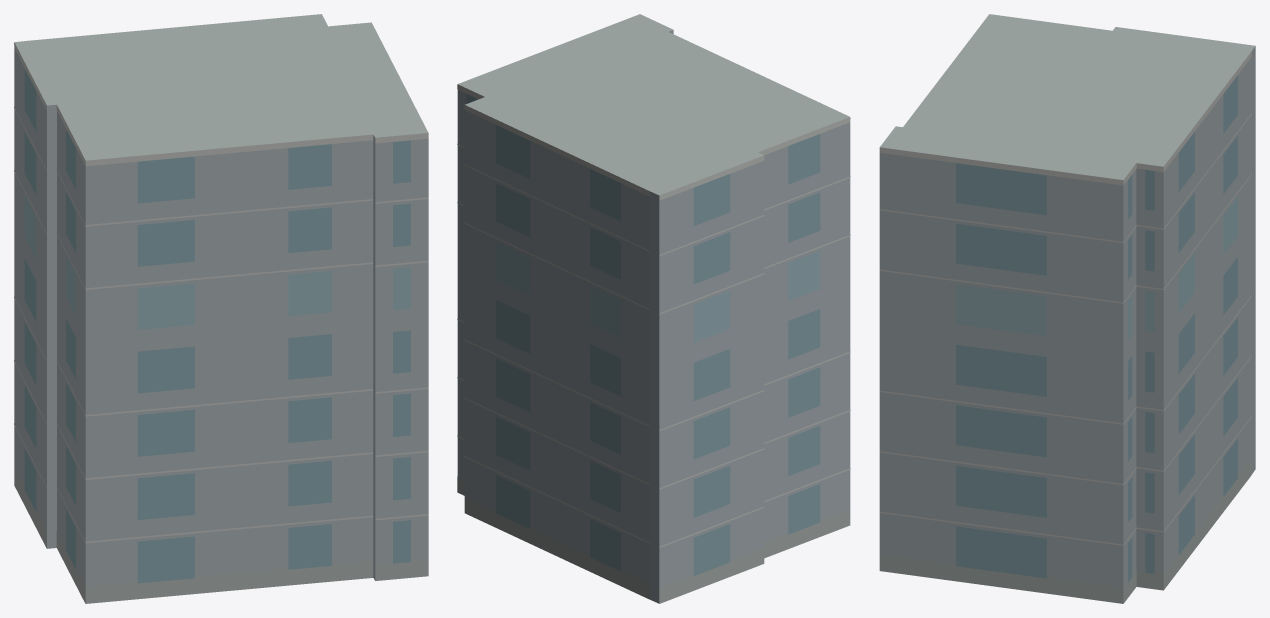
The model's file is survey-upis-32770559.glb.
The picture shows the model from 3 angles, left to right: view 1: azimuth 30°, elevation 25°; view 2: azimuth 150°, elevation 25°; view 3: azimuth 270°, elevation 25°; orthographic projection. The views are drawn at different scales.
Visible parts, largest first — view 1: survey-upis-32770559.tmp; view 2: survey-upis-32770559.tmp; view 3: survey-upis-32770559.tmp.
Part boxes in pixels (box(x1,y1,x2,y2)): survey-upis-32770559.tmp: box(14, 14, 428, 603); survey-upis-32770559.tmp: box(457, 14, 850, 603); survey-upis-32770559.tmp: box(879, 14, 1255, 603).
Bounding box in the file's own units: 15.84 × 18.8 × 15.13.
